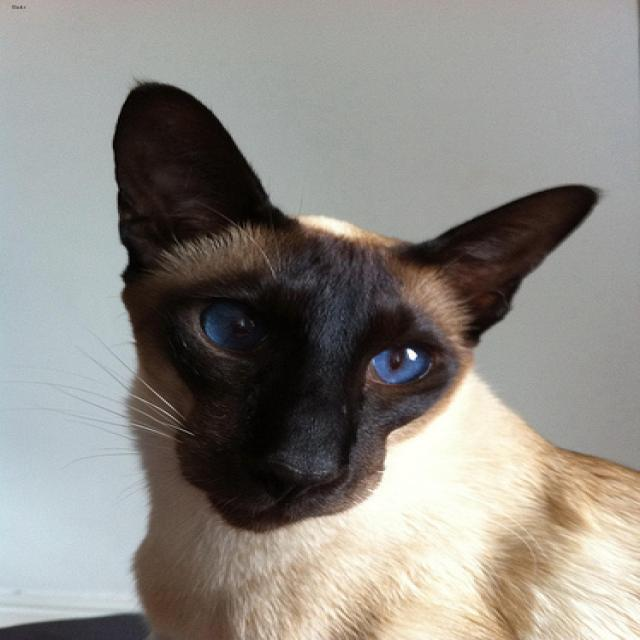Siamese: (110, 81, 605, 533)
